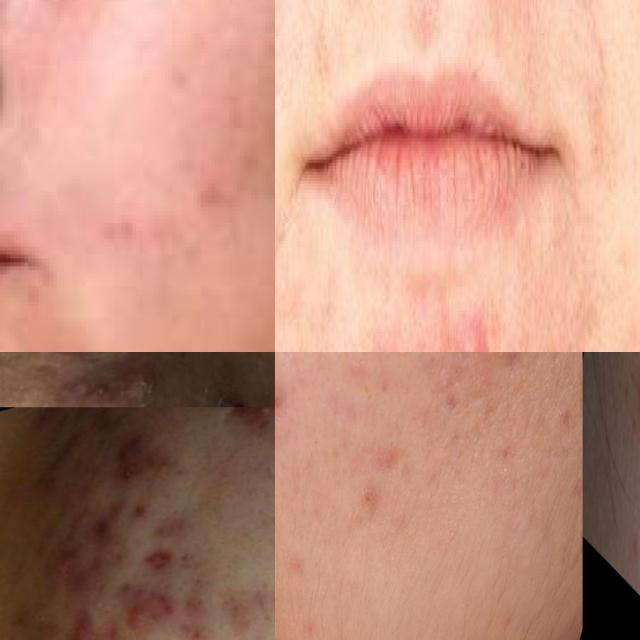acne_scars: (95, 421, 173, 496), (108, 581, 184, 637), (133, 534, 184, 583)
pustule: (233, 407, 275, 433)
sebo-crystan-conglo: (77, 364, 146, 407), (40, 614, 107, 640), (199, 383, 255, 407)
